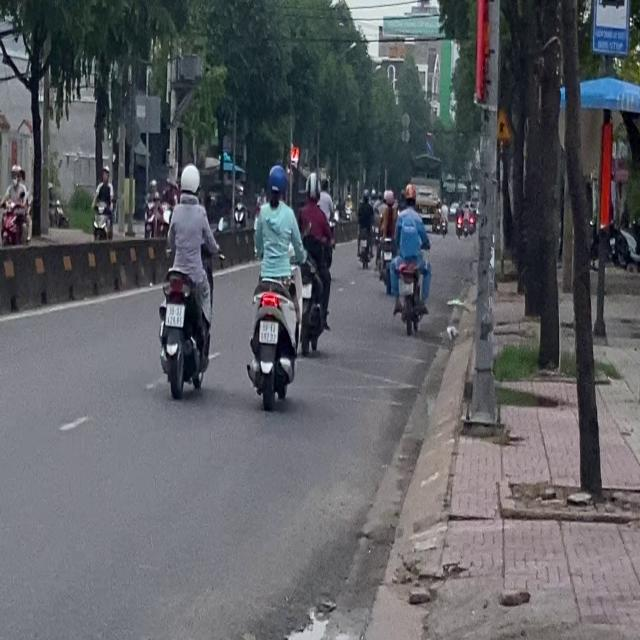helmet: (265, 163, 287, 202), (178, 162, 200, 198), (305, 171, 320, 202)
licenseplate: (156, 161, 216, 398), (245, 161, 302, 408), (296, 169, 334, 354)
nohelmet: (259, 320, 278, 343), (166, 303, 184, 327)
